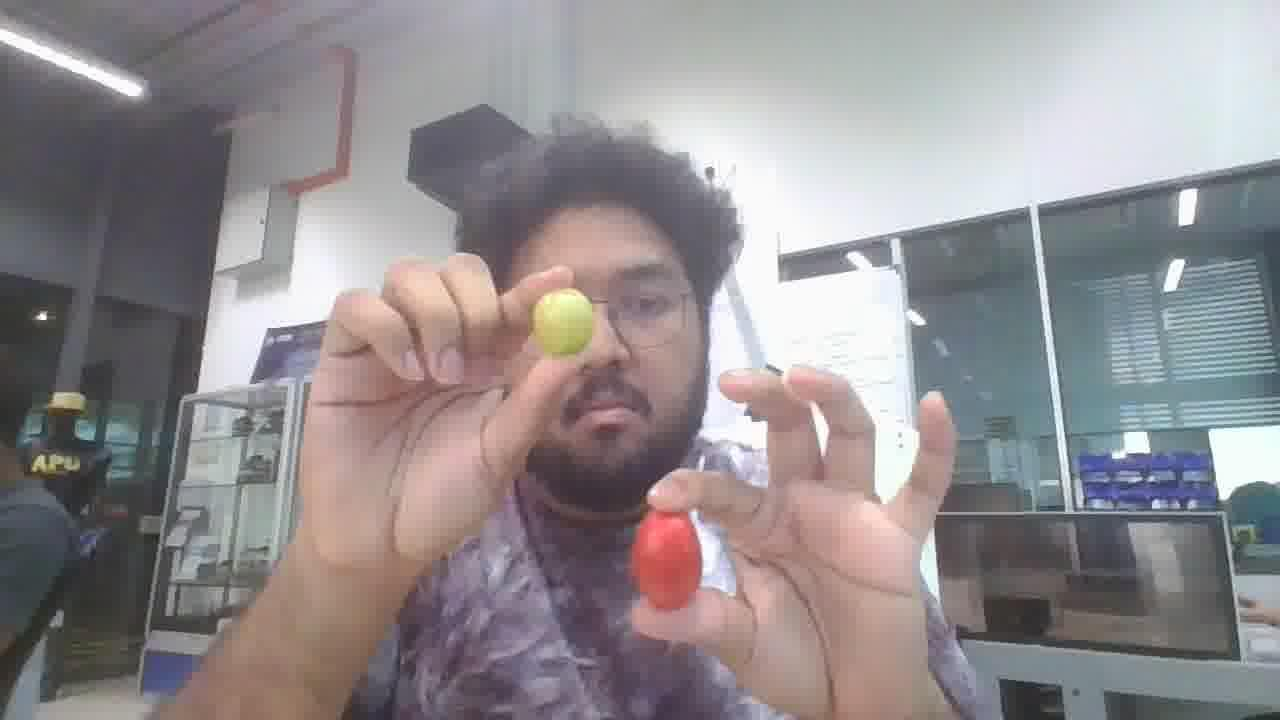green_cherry_tomato: (533, 288, 592, 356)
red_cherry_tomato: (631, 510, 700, 611)
